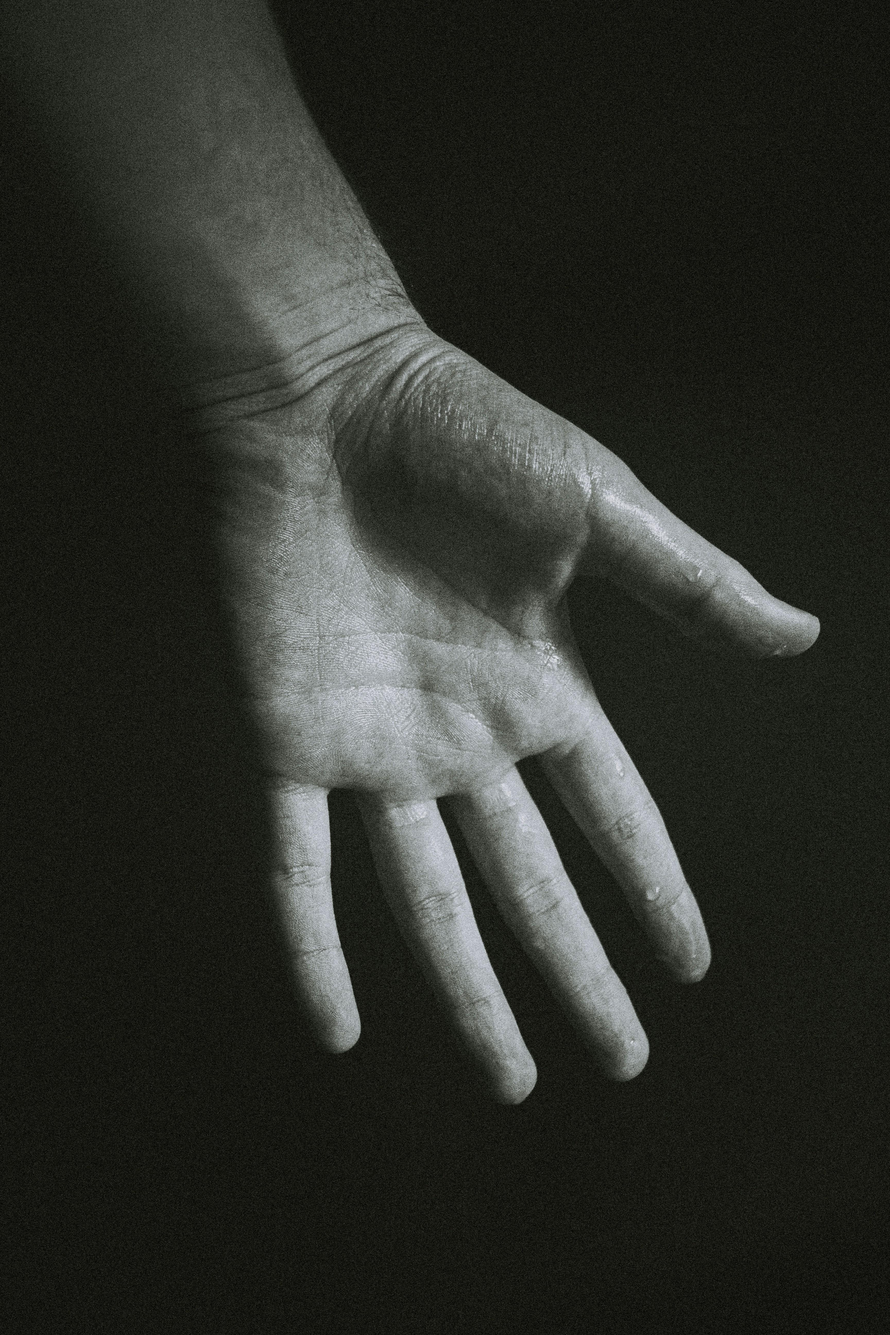head line: (284, 623, 543, 655)
heart line: (293, 684, 511, 756)
life line: (358, 442, 530, 641)
